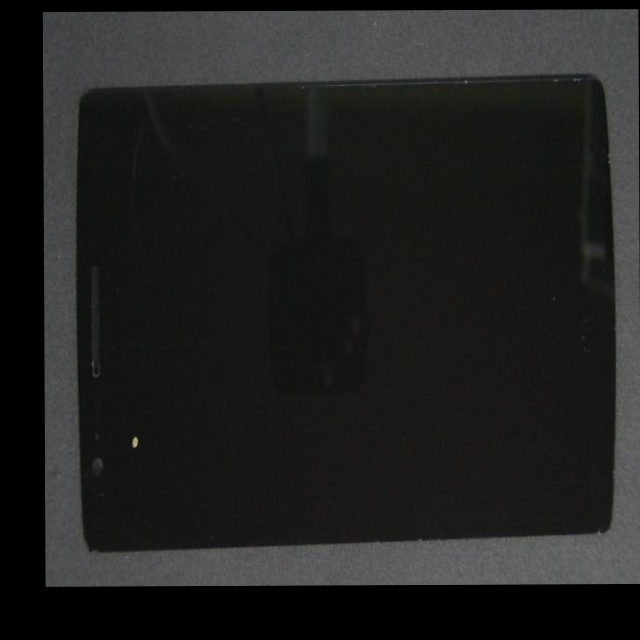stain: (54, 212, 170, 587)
